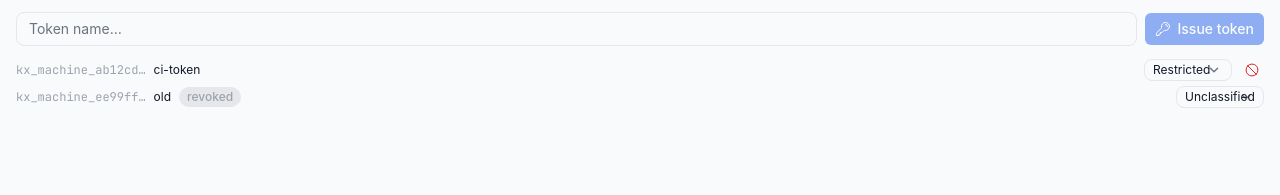
Scenario: MachineTokensPanel › shows the server message when issuing a token fails
In the field with placeholder "Token name…": (577, 29) [16, 12, 1138, 46], type "deploy"
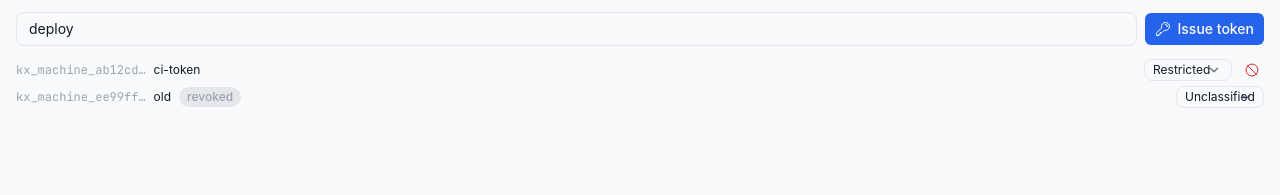
Click the button "Issue token": (1205, 29) [1146, 13, 1264, 45]
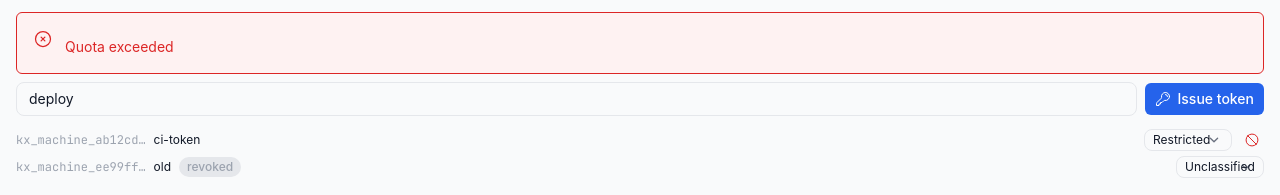
Expected: the text "Quota exceeded" is shown, [65, 38, 174, 55]
